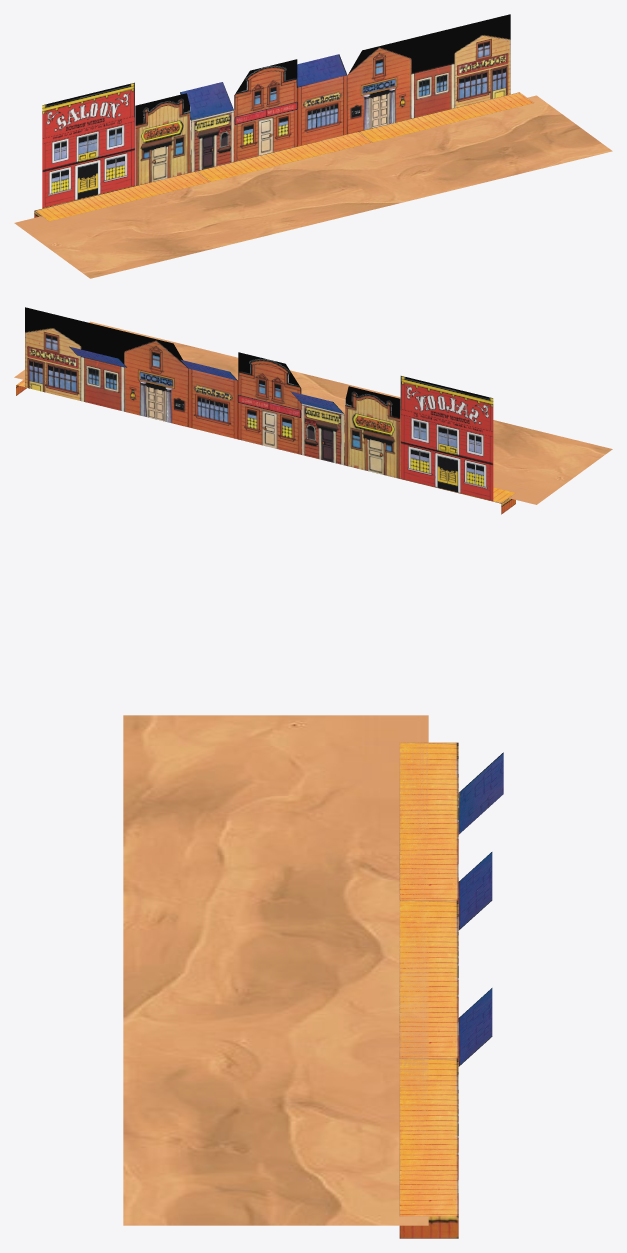
Rendered from CENARIO - faroeste.glb.
3 renders of one model, top to bottom at view 1: azimuth 30°, elevation 25°; view 2: azimuth 150°, elevation 25°; view 3: azimuth 270°, elevation 25°, orthographic. The views are drawn at different scales.
Parts seen in each view (by area): view 1: fundo, piso; view 2: fundo, piso; view 3: piso, fundo.
Part boxes in pixels (bbox=[...]): fundo: bbox=[34, 14, 533, 221]; piso: bbox=[14, 95, 612, 278]; fundo: bbox=[16, 307, 515, 514]; piso: bbox=[14, 321, 612, 504]; piso: bbox=[123, 715, 428, 1225]; fundo: bbox=[399, 742, 503, 1238].
Bounding box in the file's own units: 329 × 68.89 × 104.
2 materials, 2 textured.
